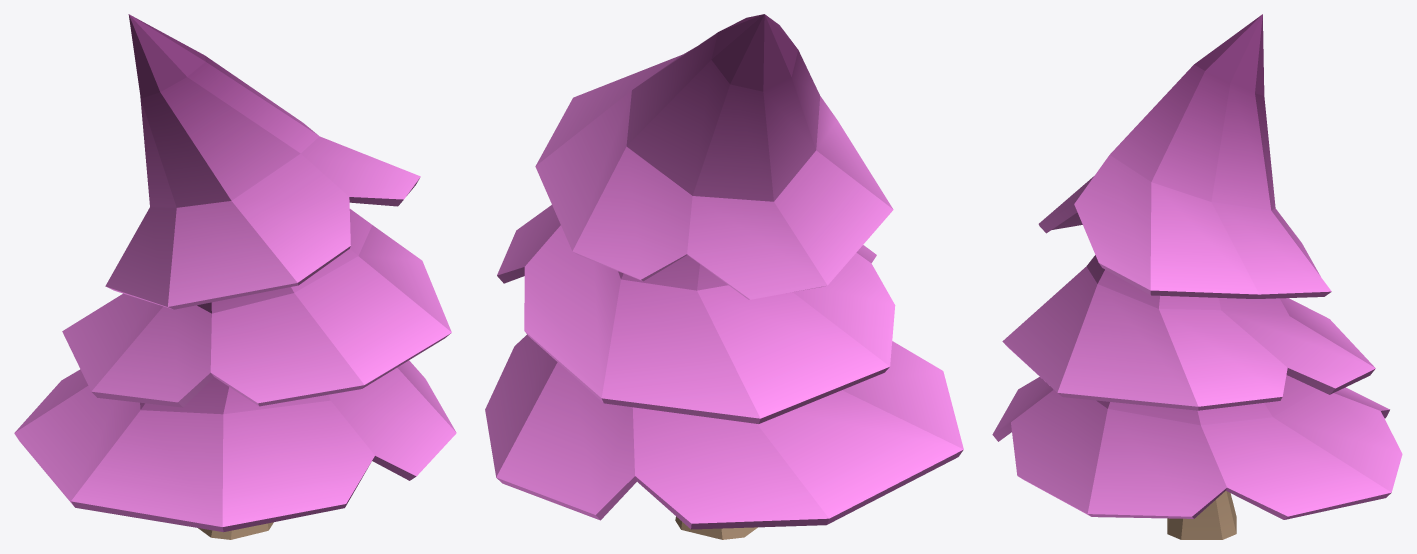
File: SpringPine4.fbx
3 renders of one model, left to right at view 1: azimuth 30°, elevation 25°; view 2: azimuth 150°, elevation 25°; view 3: azimuth 270°, elevation 25°, orthographic. The views are drawn at different scales.
Parts seen in each view (by area): view 1: SpringPine4; view 2: SpringPine4; view 3: SpringPine4.
Boxes of the visible parts, <box> form: SpringPine4: <box>14,14,456,539</box>; SpringPine4: <box>485,14,963,539</box>; SpringPine4: <box>992,14,1402,539</box>.
Size of the model in its own units: 436 by 551 by 428.
